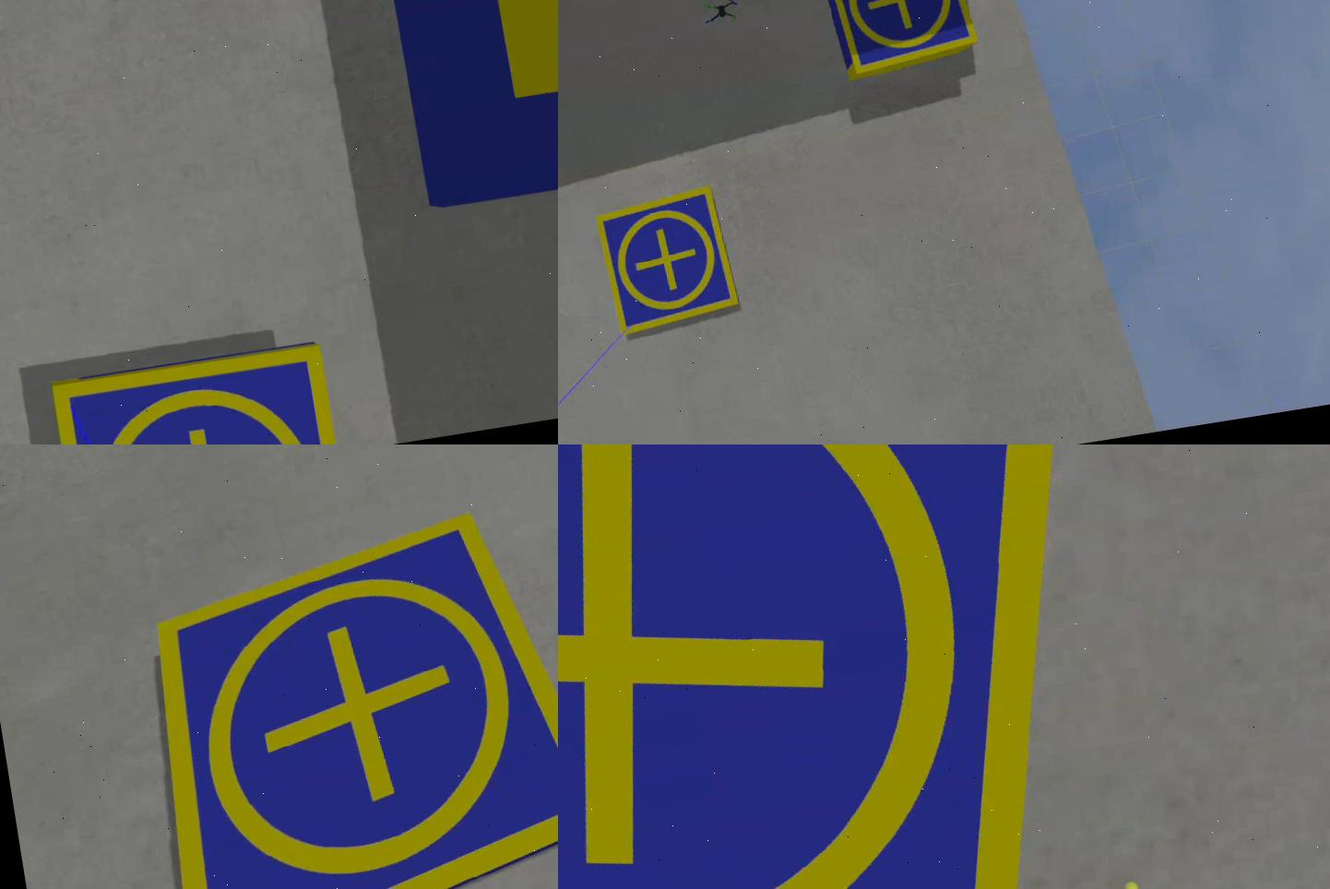large_base: (344, 1, 559, 209)
small_base: (559, 445, 1204, 889), (121, 500, 559, 889), (48, 338, 339, 445), (593, 184, 744, 338), (818, 1, 980, 79)
